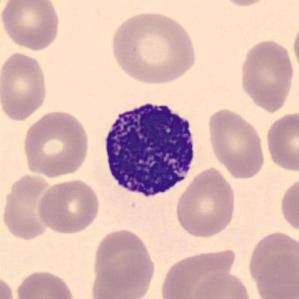Basophil: (98, 92, 201, 204)
RBC: (108, 8, 199, 87), (20, 108, 91, 178), (172, 166, 238, 240), (206, 106, 268, 181), (236, 37, 296, 114), (158, 245, 237, 299), (90, 227, 156, 286), (35, 177, 101, 236), (0, 49, 50, 123), (2, 174, 54, 239), (88, 252, 157, 299), (0, 0, 62, 52), (249, 230, 299, 291), (252, 249, 298, 299), (264, 110, 298, 173), (13, 267, 78, 299), (189, 269, 254, 299), (278, 174, 298, 236), (291, 16, 299, 78), (210, 0, 277, 7), (0, 272, 16, 298)
